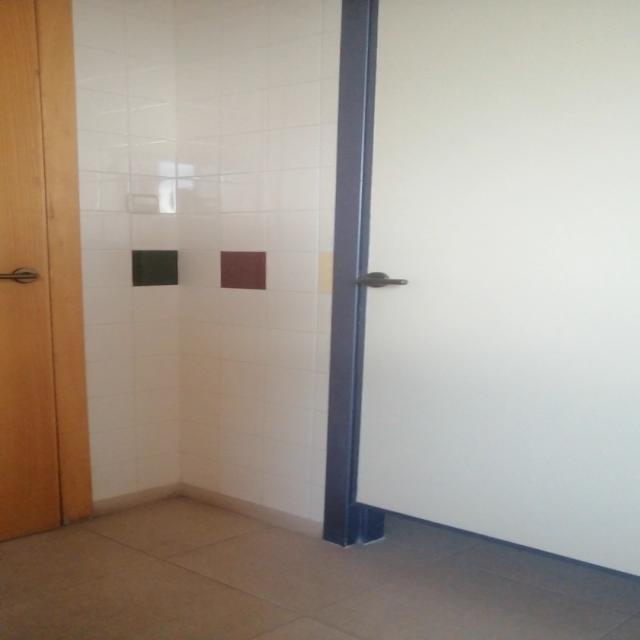door_handle: (356, 275, 414, 286), (1, 273, 41, 280)
